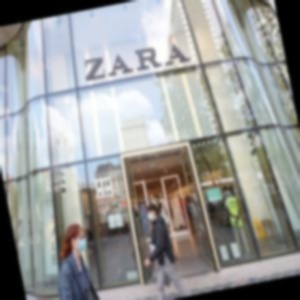zara: (152, 19, 232, 57)
